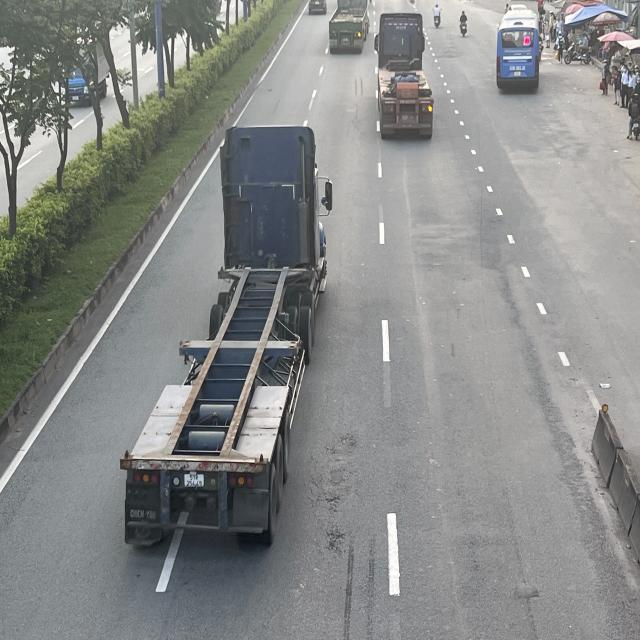coach: (496, 5, 542, 87)
container: (126, 122, 336, 545), (376, 12, 436, 143), (328, 0, 371, 53)
